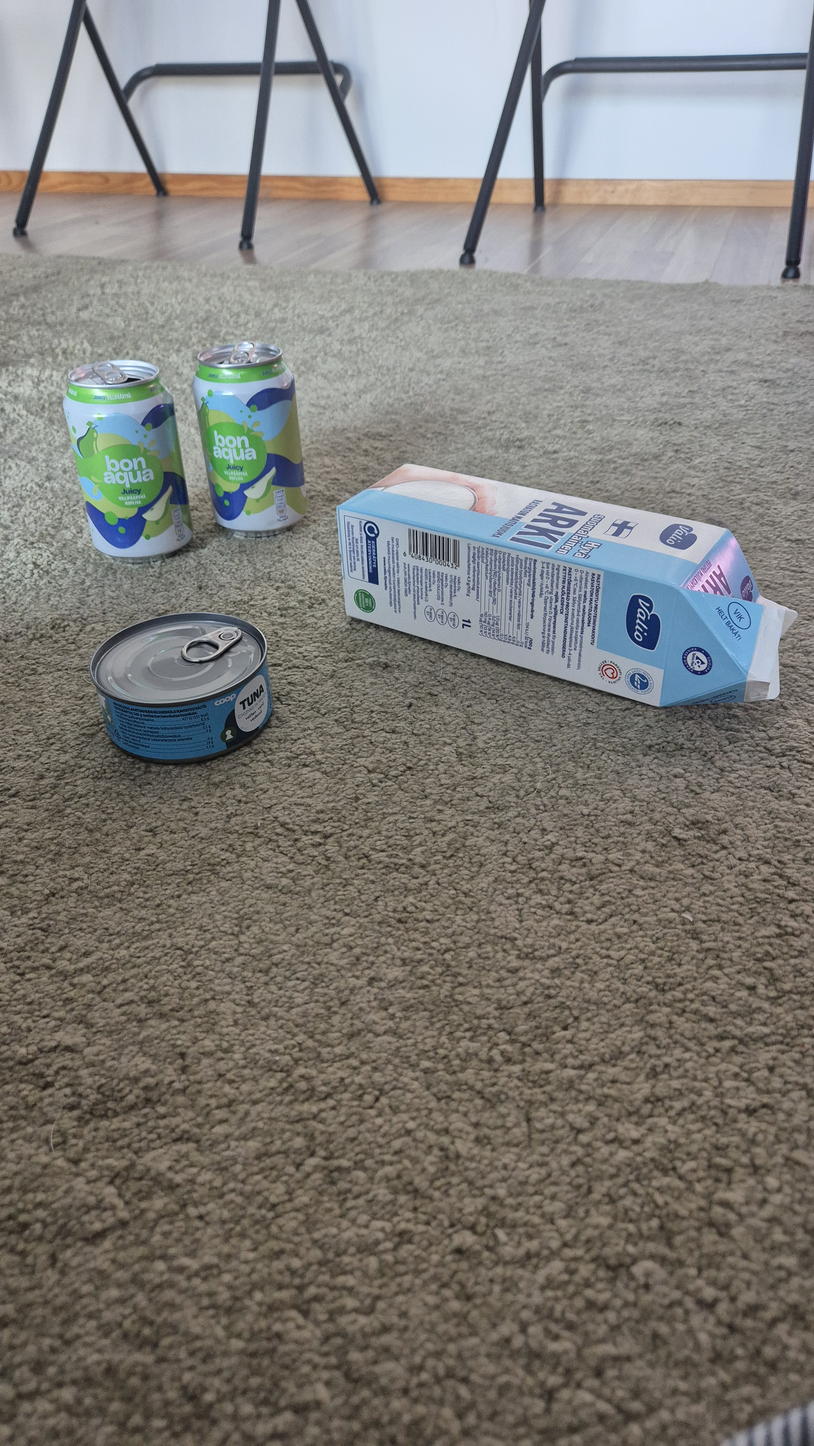Dryckeskartong: (337, 463, 798, 708)
Konservburk: (90, 612, 274, 764)
Pantburk: (63, 360, 193, 563), (193, 341, 307, 537)
